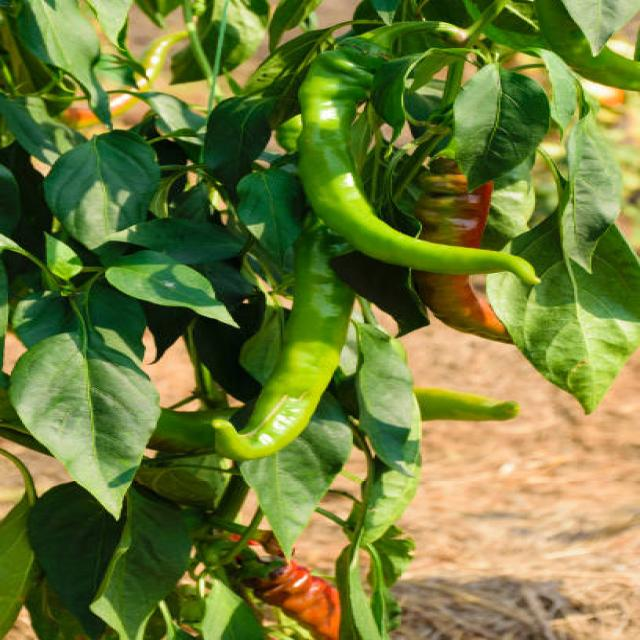Unripe: (300, 58, 535, 283), (213, 227, 353, 459)
